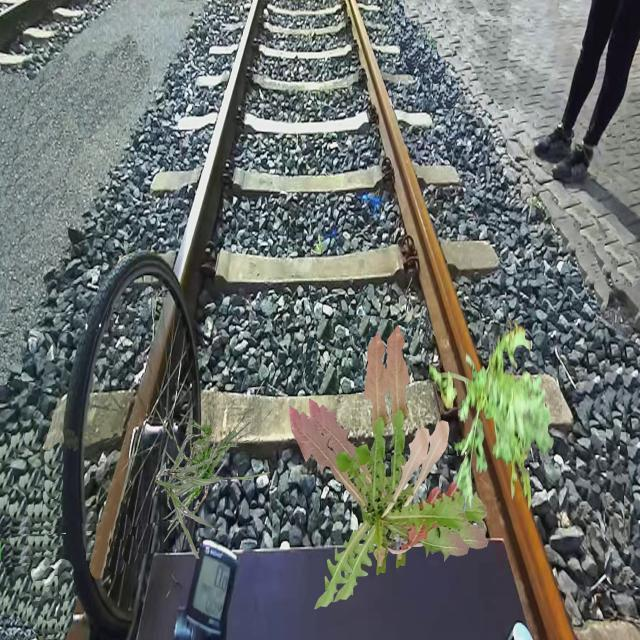Plant: (309, 324, 489, 602), (289, 331, 469, 609), (429, 318, 554, 514), (153, 379, 272, 542), (155, 434, 228, 558), (311, 234, 325, 254)
